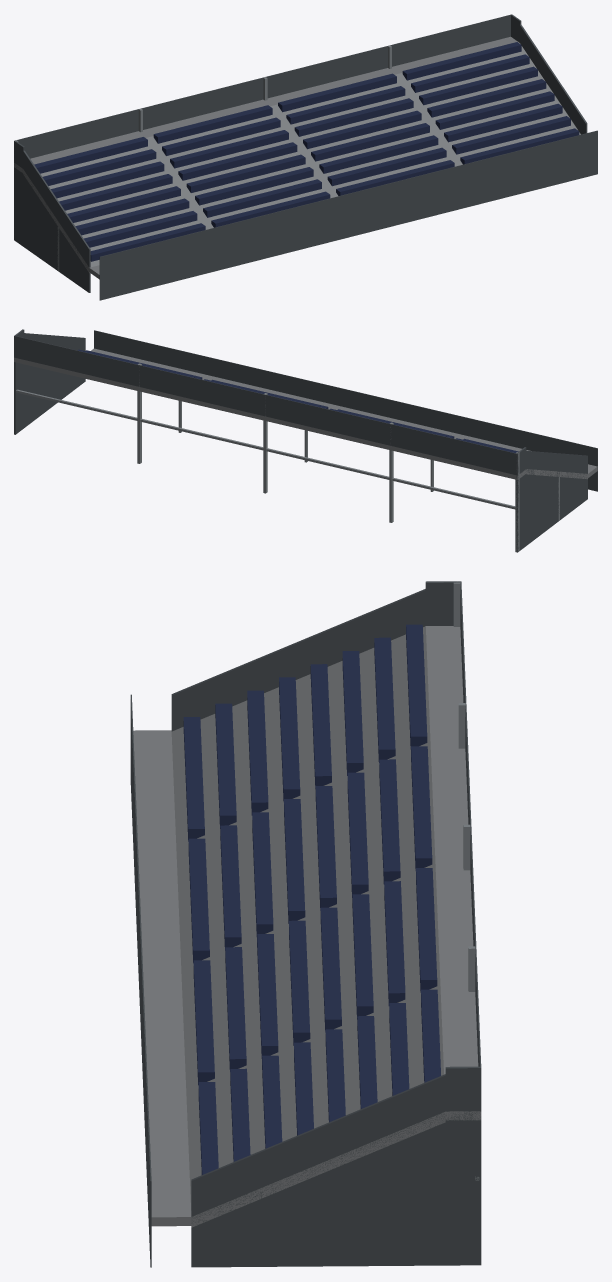
The model's file is sil_stand_stirling_a.glb.
3 renders of one model, top to bottom at view 1: azimuth 30°, elevation 25°; view 2: azimuth 150°, elevation 25°; view 3: azimuth 270°, elevation 25°, orthographic. The views are drawn at different scales.
Visible parts, largest first — view 1: silverstone-stirling-a; view 2: silverstone-stirling-a; view 3: silverstone-stirling-a.
Part boxes in pixels (x1=…): silverstone-stirling-a: x1=14, y1=14, x2=597, y2=300; silverstone-stirling-a: x1=14, y1=329, x2=597, y2=552; silverstone-stirling-a: x1=130, y1=581, x2=481, y2=1267.
Bounding box in the file's own units: 29.14 × 5.48 × 8.83.
